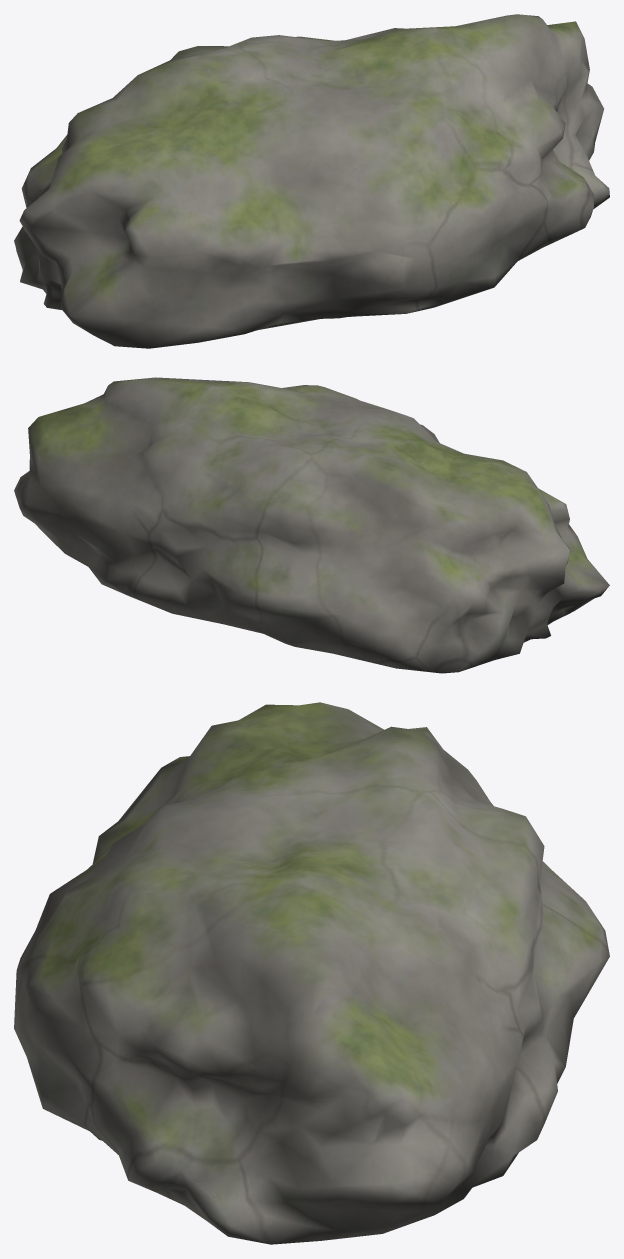
File: rock_c.glb
3 views of the same model, one above another, from view 1: azimuth 30°, elevation 25°; view 2: azimuth 150°, elevation 25°; view 3: azimuth 270°, elevation 25° (orthographic). The views are drawn at different scales.
Parts seen in each view (by area): view 1: rock_c; view 2: rock_c; view 3: rock_c.
Part boxes in pixels (box(x1,y1,x2,y2)): rock_c: box(14, 14, 609, 348); rock_c: box(14, 377, 609, 673); rock_c: box(14, 702, 609, 1244).
Bounding box in the file's own units: 2.08 × 0.6683 × 1.3.
1 material, 1 textured.
